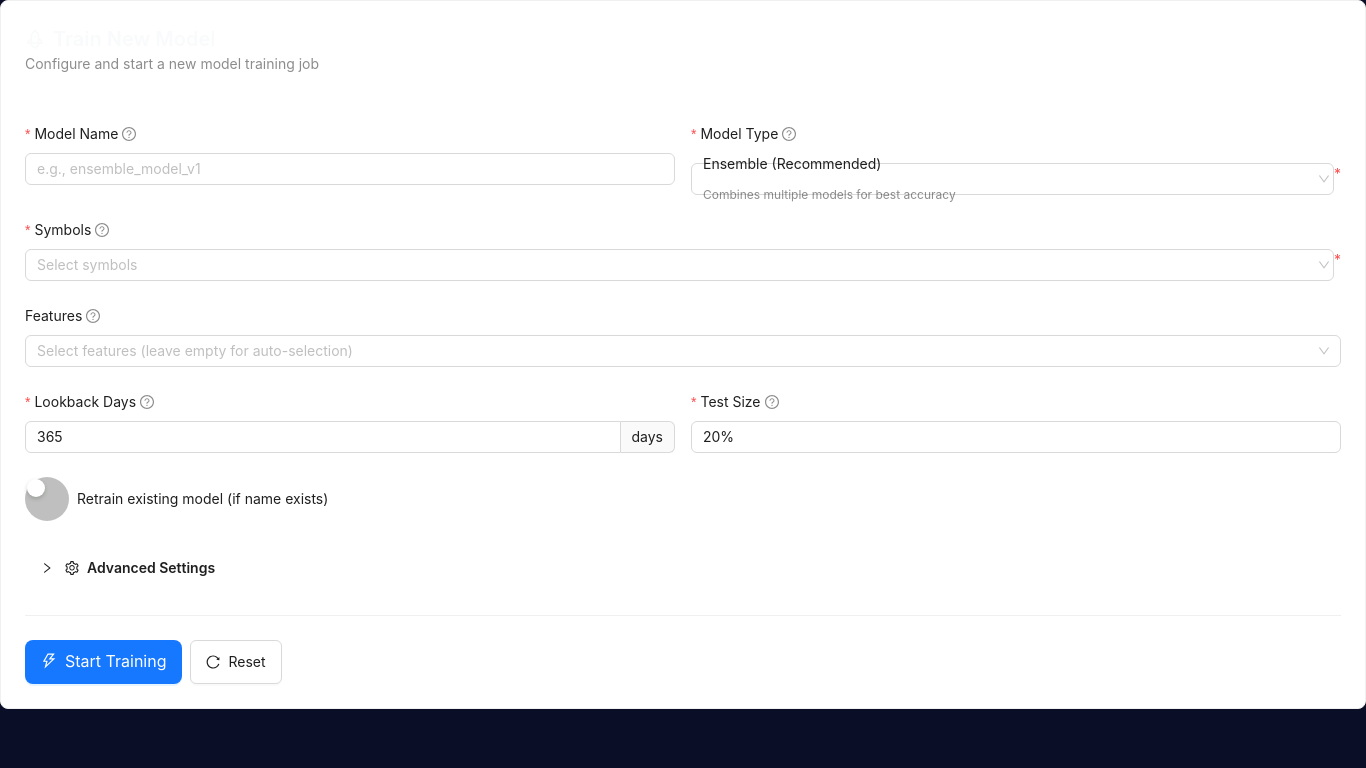
TrainingForm › Form Validation › should show validation error for empty model name
Click the button "Start Training" at {"x": 104, "y": 662}, box [25,640,182,684]
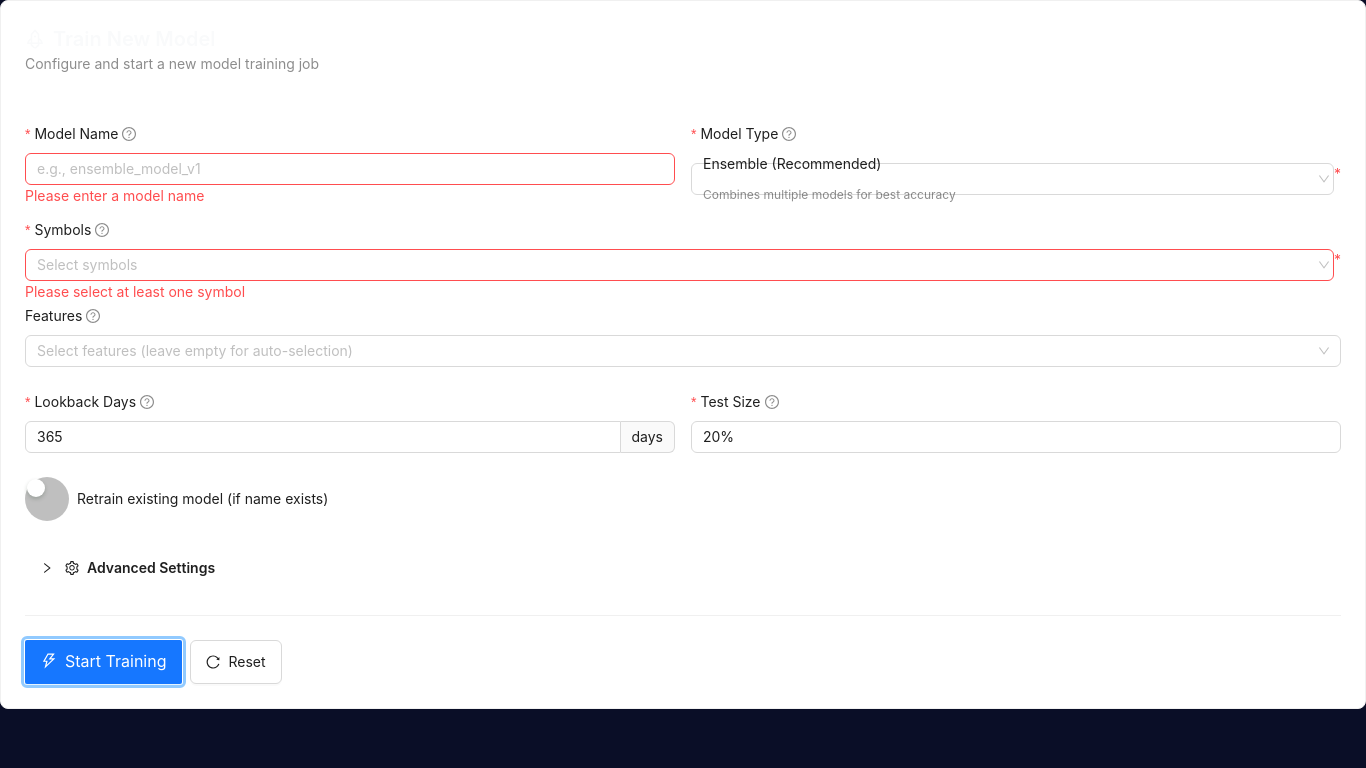
Expected: the text "Please enter a model name" is shown, [25,187,204,204]
